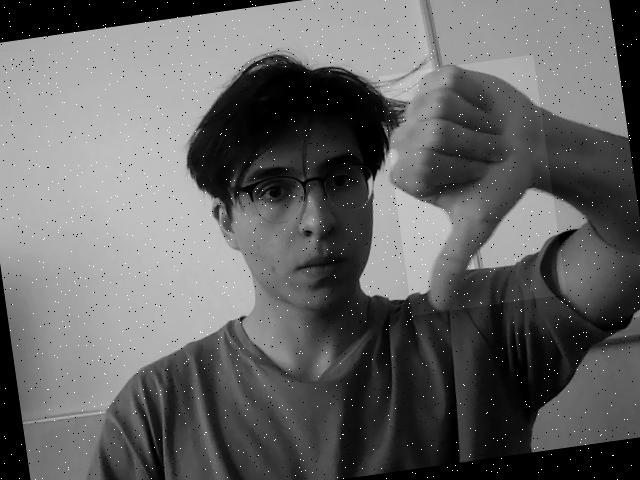bad: (379, 55, 567, 316)
